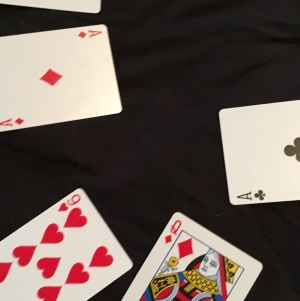card: (215, 96, 299, 205)
